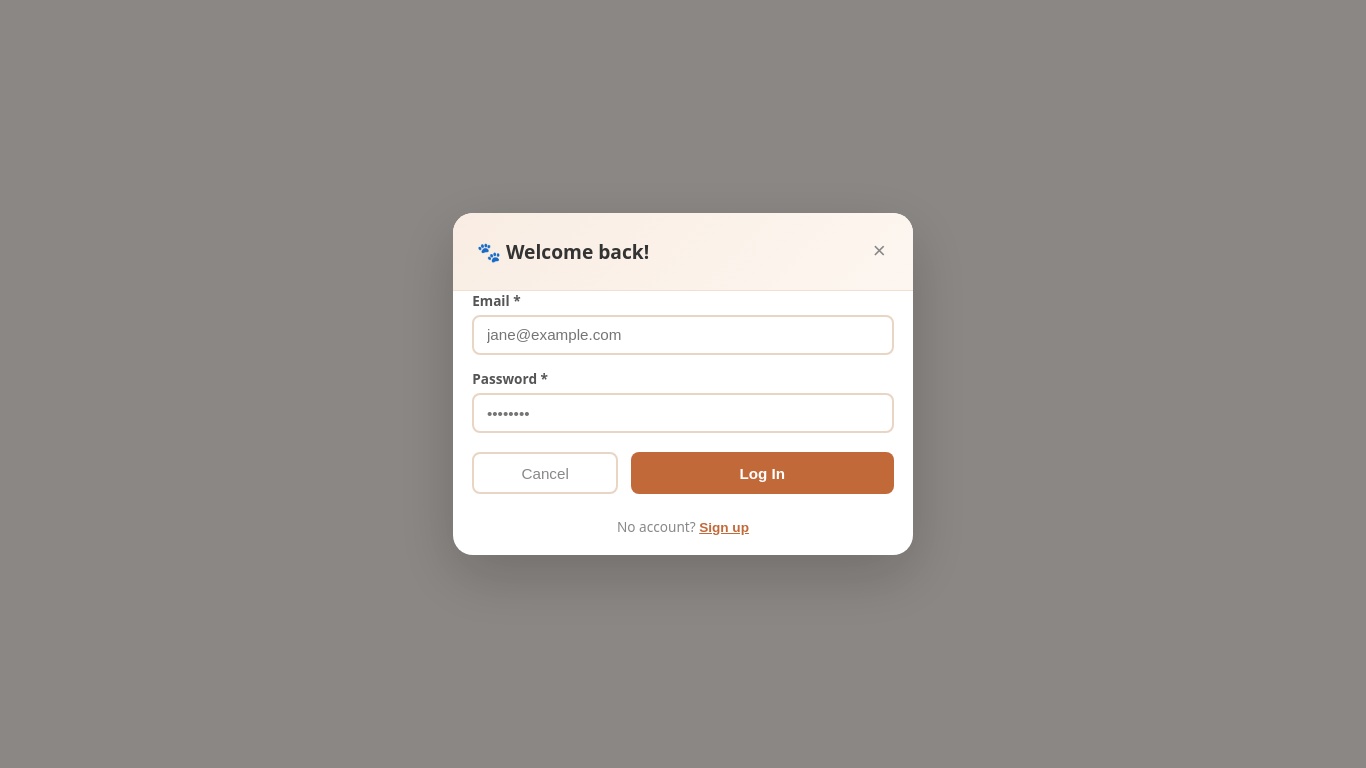
Scenario: AuthModal – mode switching › switches from login to signup when "Sign up" link is clicked
Click the button "Sign up": (724, 527) [699, 520, 749, 535]
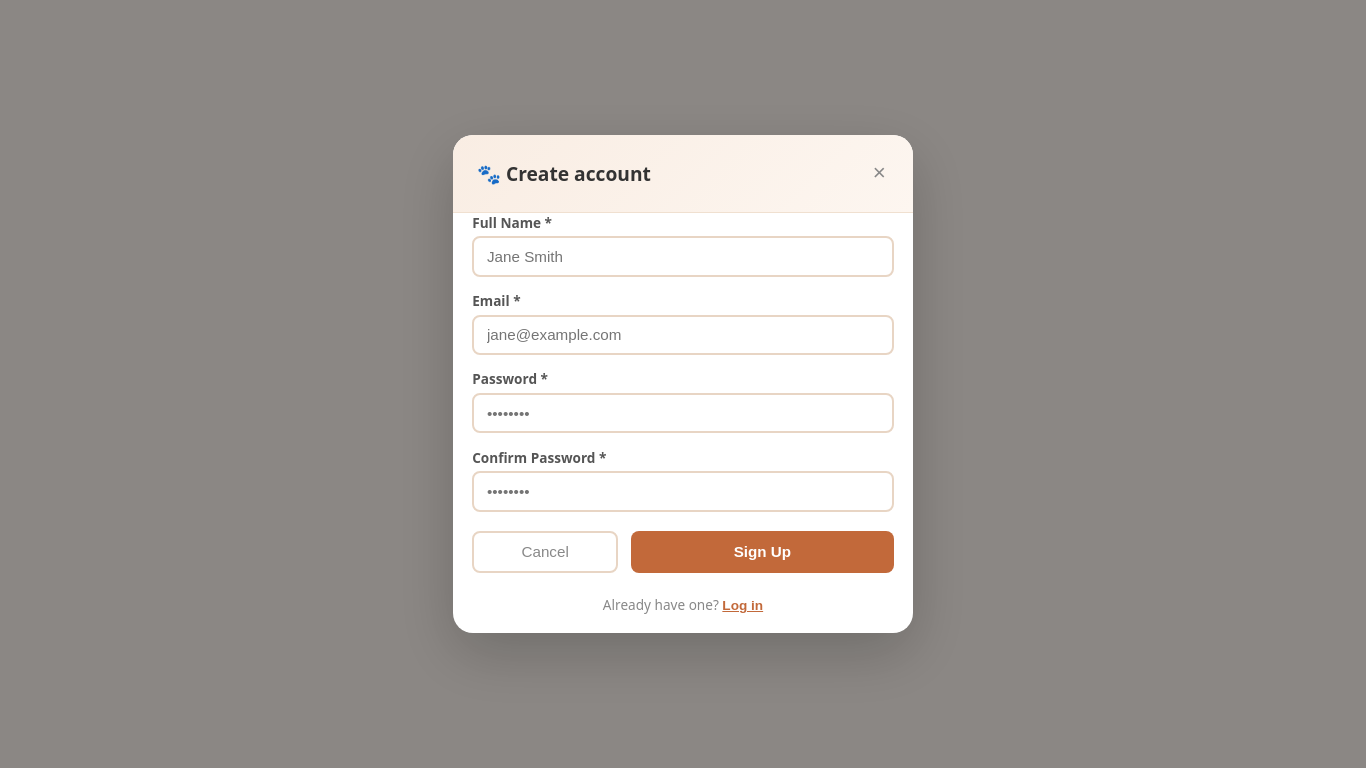
Now the button "Sign Up" is shown, box [631, 531, 894, 573]
